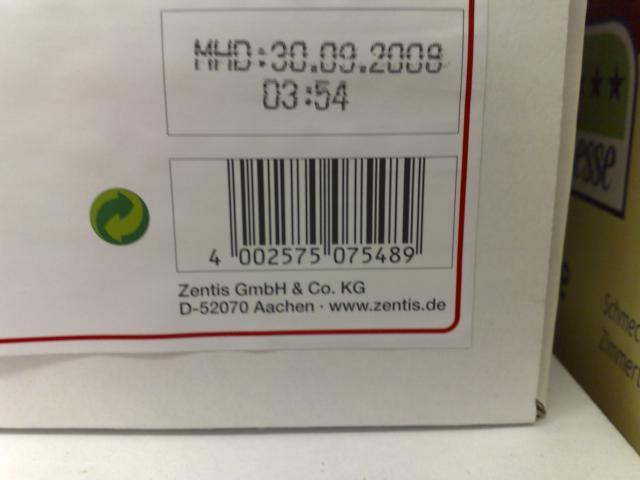Barcode: (196, 154, 435, 272)
